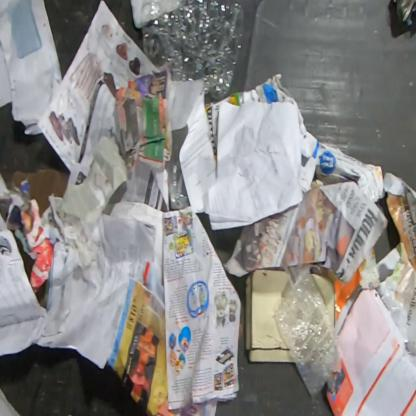cardboard: (244, 268, 294, 363), (310, 273, 334, 329)
soft_plastic: (139, 0, 245, 101), (274, 266, 338, 398), (166, 160, 190, 210)
